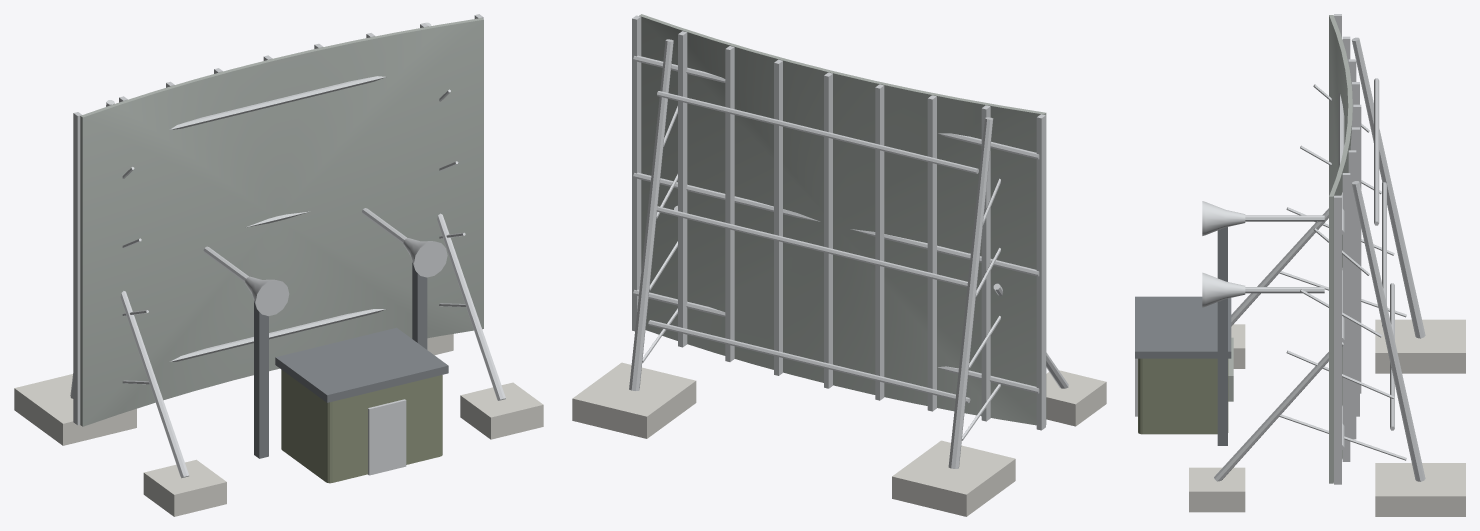
Rendered from cold-war-missile-silo-and-command-bunker-tropospheric--b1745743__15674.glb.
3 renders of one model, left to right at view 1: azimuth 30°, elevation 25°; view 2: azimuth 150°, elevation 25°; view 3: azimuth 270°, elevation 25°, orthographic. The views are drawn at different scales.
Visible parts, largest first — view 1: tropospheric-scatter-antenna; view 2: tropospheric-scatter-antenna; view 3: tropospheric-scatter-antenna.
Part boxes in pixels (<box>): tropospheric-scatter-antenna: <box>14,14,543,516</box>; tropospheric-scatter-antenna: <box>572,14,1106,516</box>; tropospheric-scatter-antenna: <box>1135,14,1465,516</box>.
Size of the model in its own units: 7.69 by 6.3 by 5.85.
